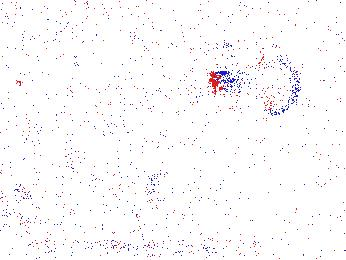flame jellyfish: (211, 54, 300, 118), (109, 171, 164, 226), (1, 174, 33, 231)
